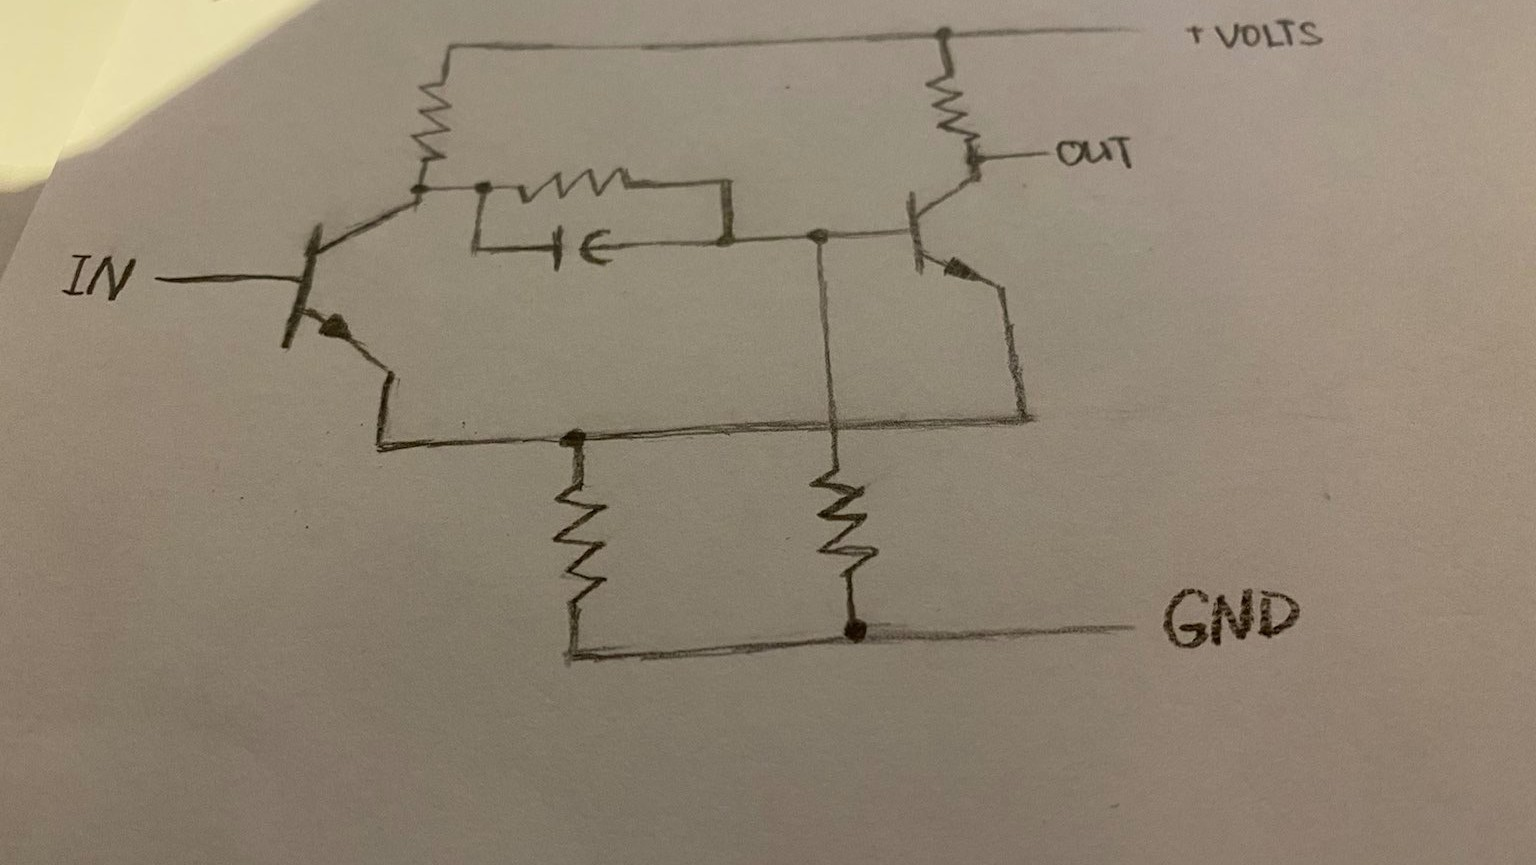capacitor.unpolarized: (531, 220, 625, 276)
crossover: (810, 402, 853, 442)
junction: (825, 609, 886, 666), (994, 392, 1050, 446), (545, 630, 601, 683), (543, 414, 607, 459), (703, 165, 749, 203), (705, 222, 750, 258), (362, 424, 400, 466), (924, 14, 961, 51), (799, 217, 837, 253), (465, 170, 502, 201), (437, 28, 466, 58), (404, 172, 434, 197), (957, 148, 990, 169), (467, 238, 485, 259)
resistor: (807, 465, 886, 581), (550, 482, 613, 609), (516, 164, 636, 208), (923, 66, 990, 145), (405, 76, 453, 168)
terminal: (1087, 16, 1161, 49), (146, 261, 211, 297), (1094, 610, 1156, 642), (1018, 141, 1057, 164)
text: (1156, 582, 1307, 652), (62, 247, 142, 305), (1212, 14, 1330, 51), (1054, 131, 1140, 175), (1180, 19, 1206, 49)
transistor: (279, 200, 433, 398), (898, 174, 1015, 289)
